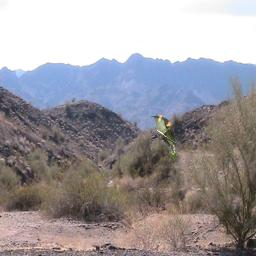Cuckoo: (149, 114, 178, 161)
